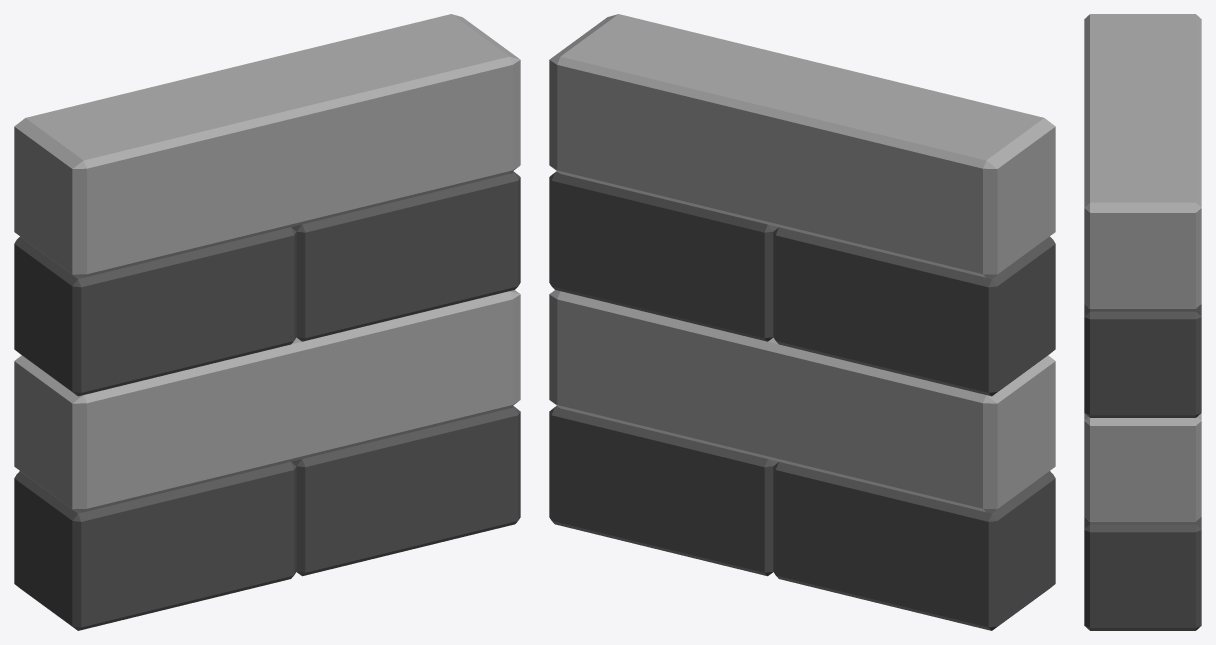
File: Mesh_wall_fat_temple_TL (1).fbx
3 renders of one model, left to right at view 1: azimuth 30°, elevation 25°; view 2: azimuth 150°, elevation 25°; view 3: azimuth 270°, elevation 25°, orthographic. The views are drawn at different scales.
Visible parts, largest first — view 1: Mesh_wall_fat_temple_TL1; view 2: Mesh_wall_fat_temple_TL1; view 3: Mesh_wall_fat_temple_TL1.
Boxes of the visible parts, x1,y1,x2,y2 form: Mesh_wall_fat_temple_TL1: (14,14,520,630); Mesh_wall_fat_temple_TL1: (549,14,1055,630); Mesh_wall_fat_temple_TL1: (1084,14,1201,630).
Bounding box in the file's own units: 1000 × 1000 × 250.
3 materials, 2 textured.
